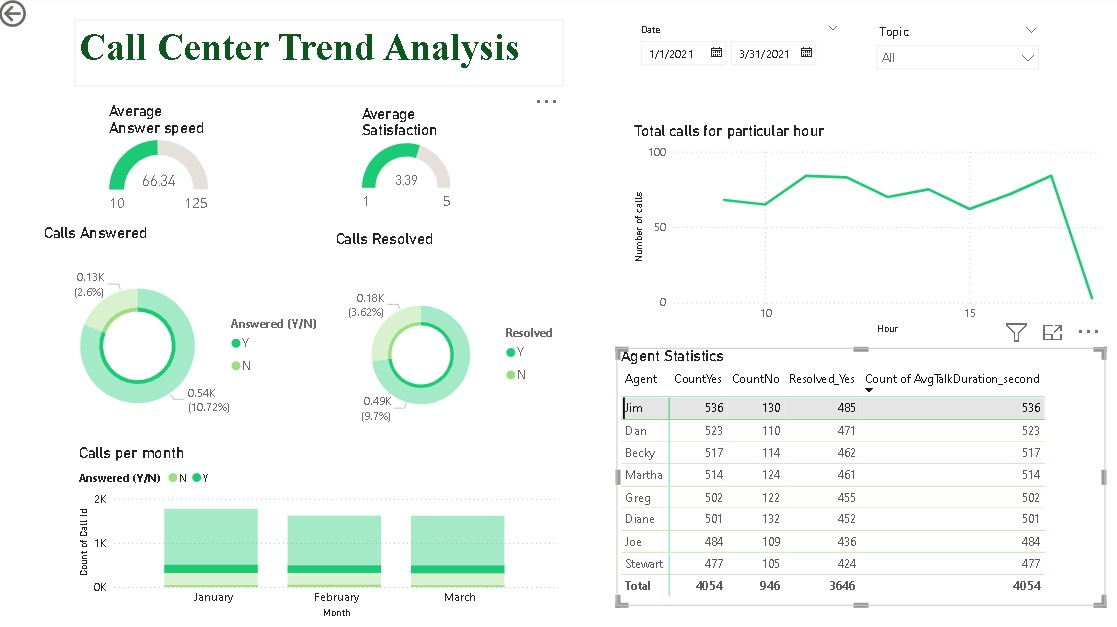

The dashboard page shown, as its layout file describes it:
{"tool":"powerbi","page":{"name":"Call center trend analysis dashboard","canvas":[1280,720],"ordinal":0},"visuals":[{"type":"gauge","title":"Average Answer speed","fields":{"Y":["Sheet1.Speed of answer in seconds"],"MinValue":["Sum(Sheet1.Speed of answer in seconds)1"],"MaxValue":["Sum(Sheet1.Speed of answer in seconds)2"]},"box":[123.4,120.5,121.9,136.6],"z":0},{"type":"gauge","title":"Average Satisfaction","fields":{"Y":["Sheet1.Satisfaction rating"],"MinValue":["Sum(Sheet1.Satisfaction rating)1"],"MaxValue":["Sum(Sheet1.Satisfaction rating)2"]},"box":[408.4,123.4,110.2,132.2],"z":1000},{"type":"donutChart","title":"Calls Answered","fields":{"Category":["Sheet1.Answered (Y/N)"],"Y":["Sheet1.Answered (Y/N)"]},"box":[49.9,257.1,324.7,257.1],"z":2000},{"type":"donutChart","title":"Calls Resolved","fields":{"Category":["Sheet1.Resolved"],"Y":["Sheet1.Resolved"]},"box":[379,264.4,277.6,263],"z":3000},{"type":"columnChart","title":"Calls per month","fields":{"Category":["Sheet1.Date.Variation.Date Hierarchy.Month"],"Y":["Sheet1.Call Id"],"Series":["Sheet1.Answered (Y/N)"]},"box":[89.6,505.3,550.9,201.3],"z":4000},{"type":"textbox","box":[89.6,26.4,550.9,74.9],"z":5000},{"type":"lineChart","title":"Total calls for particular hour","fields":{"Category":["Sheet1.Hour"],"Y":["Sheet1.Call Id"]},"box":[715.4,142.5,536.2,243.9],"z":6000},{"type":"pivotTable","title":"Agent Statistics","fields":{"Rows":["Sheet1.Agent"],"Values":["Sheet1.CountYes","Sheet1.CountNo","Sheet1.Resolved_Yes","Sheet1.AvgTalkDuration_second"]},"box":[700.7,396.6,550.9,290.9],"z":7000},{"type":"slicer","fields":{"Values":["Sheet1.Date"]},"box":[715.4,26.4,246.8,74.9],"z":8000},{"type":"slicer","fields":{"Values":["Sheet1.Topic"]},"box":[984.2,26.4,202.7,74.9],"z":9000},{"type":"actionButton","box":[0,0,100,40],"z":9001}]}

Visuals, with their boxes in screenshot pixels (x1, y1, x2, y2), scaled from the page's 1280x720 canvas onto the 1117x627 screenshot:
"Average Answer speed" gauge: locate(108, 105, 214, 224)
"Average Satisfaction" gauge: locate(356, 107, 453, 223)
"Calls Answered" donutChart: locate(44, 224, 327, 448)
"Calls Resolved" donutChart: locate(331, 230, 573, 459)
"Calls per month" columnChart: locate(78, 440, 559, 615)
textbox: locate(78, 23, 559, 88)
"Total calls for particular hour" lineChart: locate(624, 124, 1092, 336)
"Agent Statistics" pivotTable: locate(611, 345, 1092, 599)
slicer - Sheet1.Date: locate(624, 23, 840, 88)
slicer - Sheet1.Topic: locate(859, 23, 1036, 88)
actionButton: locate(0, 0, 87, 35)
